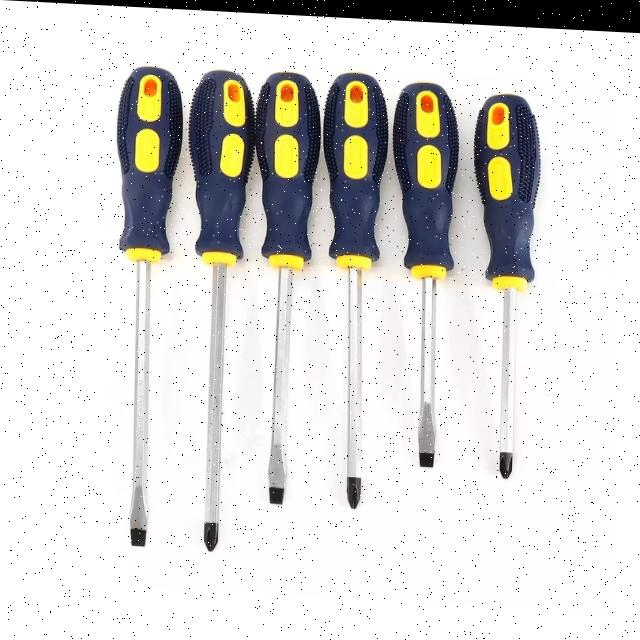Screwdriver: (117, 65, 183, 544), (189, 68, 254, 549), (323, 69, 389, 504), (256, 69, 320, 501), (393, 78, 459, 462), (474, 89, 540, 473)
